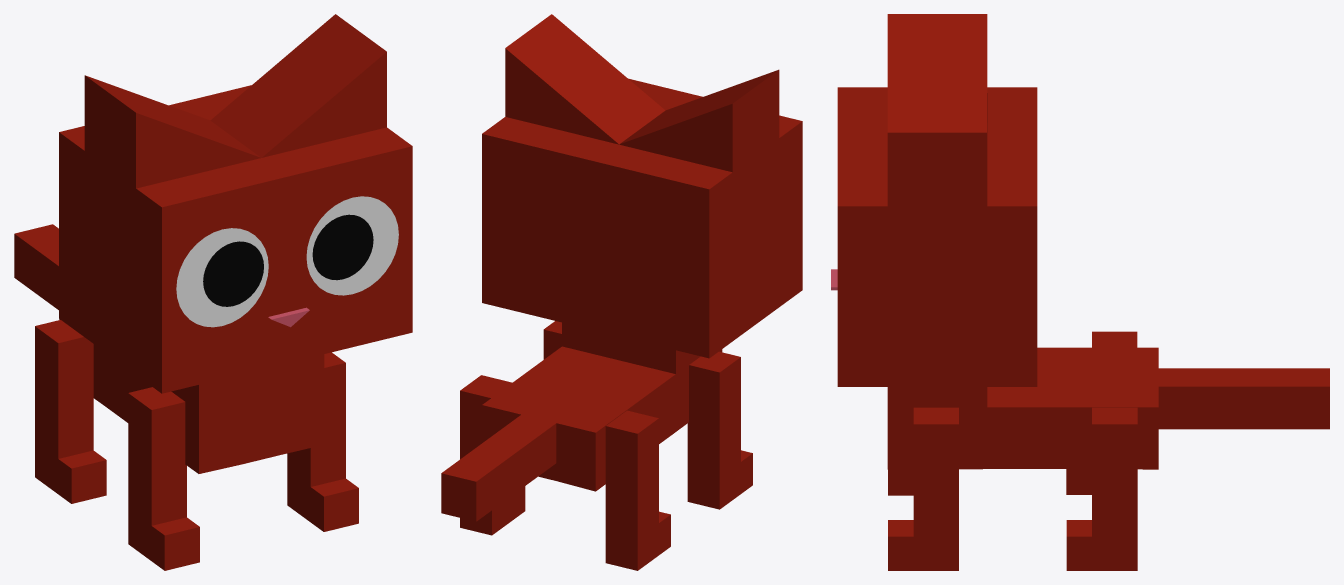
The model's file is LittleCato.FBX.
3 renders of one model, left to right at view 1: azimuth 30°, elevation 25°; view 2: azimuth 150°, elevation 25°; view 3: azimuth 270°, elevation 25°, orthographic. The views are drawn at different scales.
Parts seen in each view (by area): view 1: cat, Cube.002, Cube.003, yeux, Cube, Circle; view 2: cat, Cube.003, Cube.002, Cube.001, Cube; view 3: cat, Cube.001, Cube, Cube.003, Cube.002.
Part boxes in pixels (x1,y1,x2,y2): cat: (14, 14, 412, 473); Cube.002: (128, 387, 199, 570); Cube.003: (35, 320, 106, 503); yeux: (176, 196, 398, 327); Cube: (287, 352, 358, 531); Circle: (203, 214, 373, 306); cat: (441, 14, 802, 521); Cube.003: (605, 410, 670, 570); Cube.002: (687, 351, 752, 509); Cube.001: (460, 375, 525, 535); Cube: (543, 321, 561, 359); cat: (831, 14, 1329, 469); Cube.001: (1066, 407, 1137, 570); Cube: (888, 407, 958, 570); Cube.003: (1066, 331, 1137, 494); Cube.002: (888, 469, 913, 495).
Bounding box in the file's own units: 50.56 × 89.64 × 89.78.
